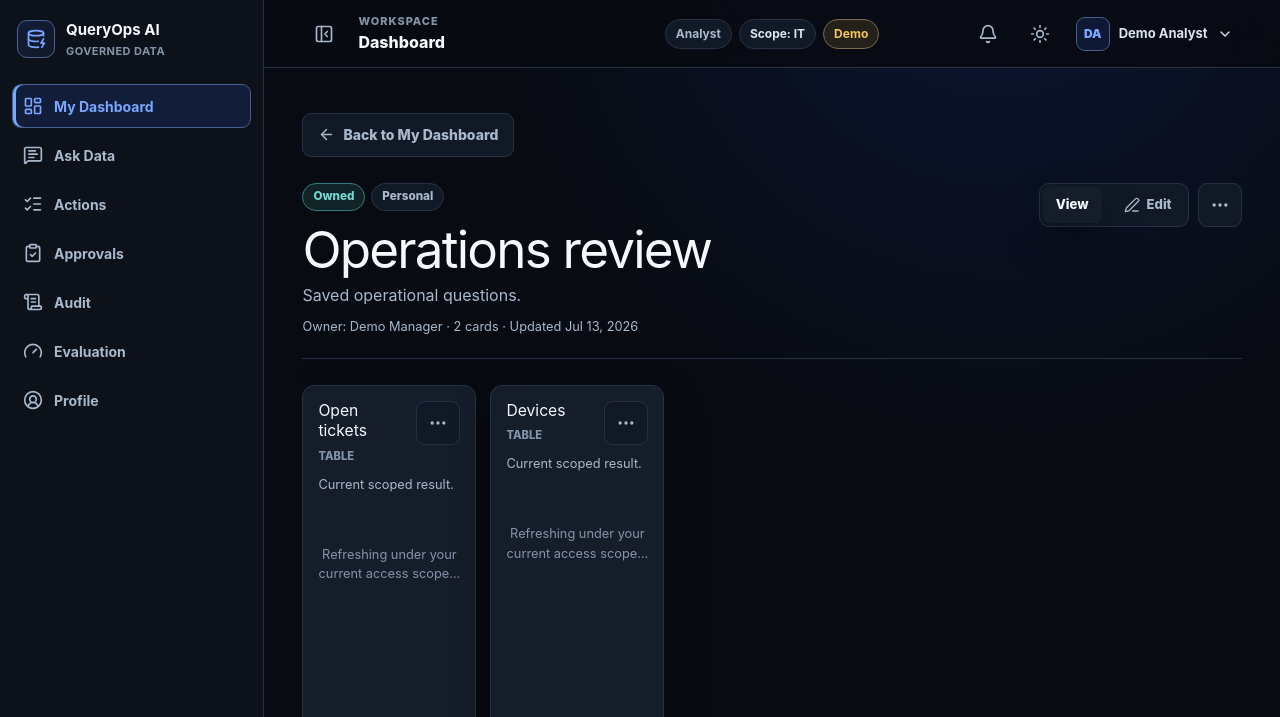
DashboardDetailPage › uses one-column mobile controls without drag-resize
The width and height of the screenshot is (1280, 717).
Click the button "Edit": (1148, 205) [1110, 187, 1185, 223]
(page scrolled)
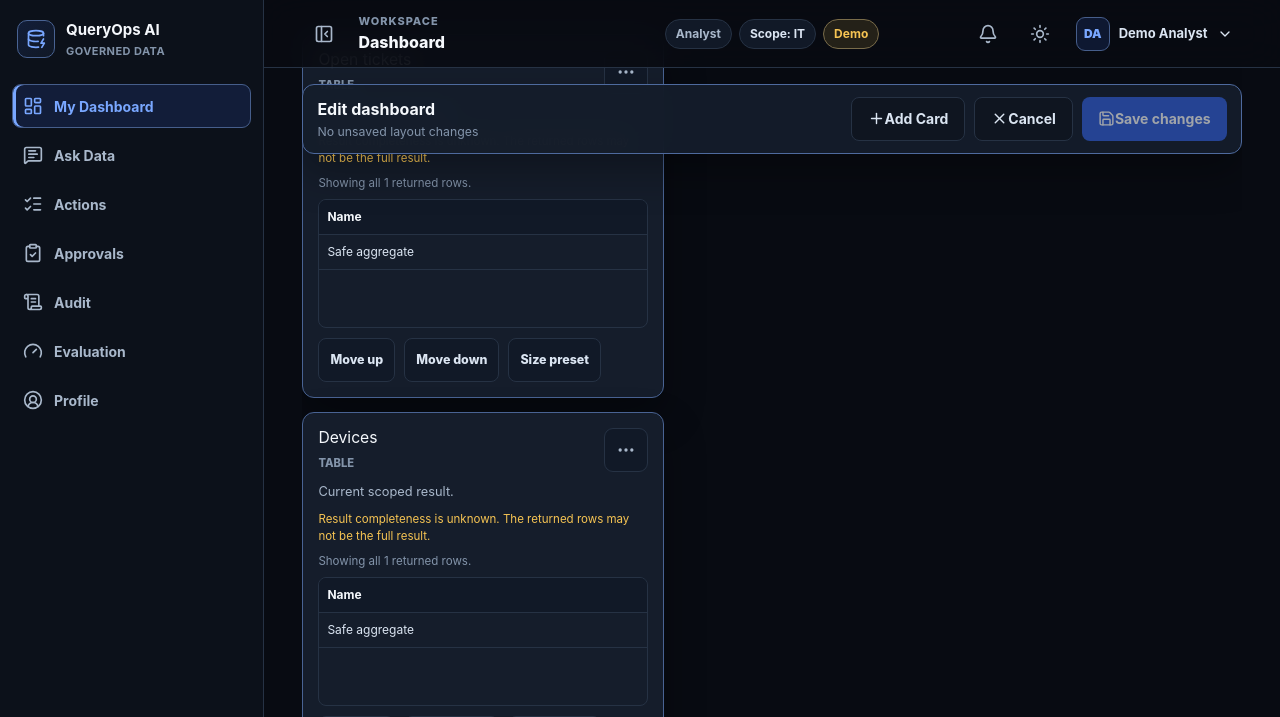
Click the button "Size preset" below "Open tickets": (555, 360) [508, 338, 601, 382]
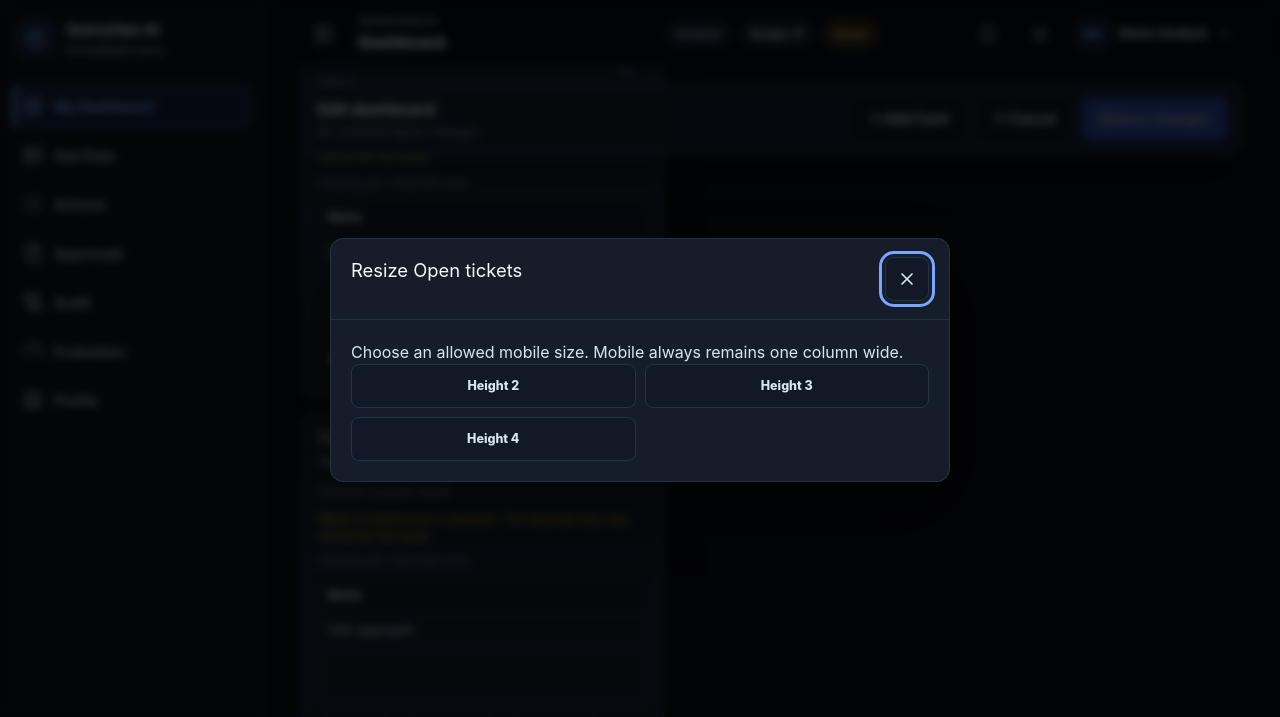
Expected: the dialog "Resize Open tickets" shows "Height 2", [351, 364, 636, 408]
Expected: the dialog "Resize Open tickets" shows "Height 3", [644, 364, 929, 408]
Expected: the dialog "Resize Open tickets" shows "Height 4", [351, 417, 636, 461]
